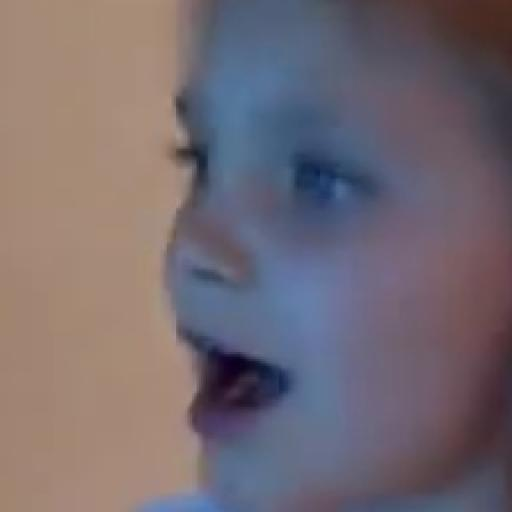Autism: (146, 36, 509, 512)
